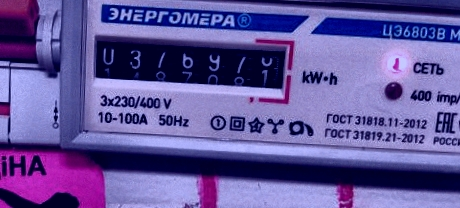0: (100, 42, 115, 65)
1: (258, 66, 270, 87)
3: (127, 46, 143, 69)
6: (179, 45, 195, 68)
7: (152, 45, 168, 68), (233, 50, 248, 74)
9: (205, 48, 221, 72)
screen: (83, 24, 297, 107)
